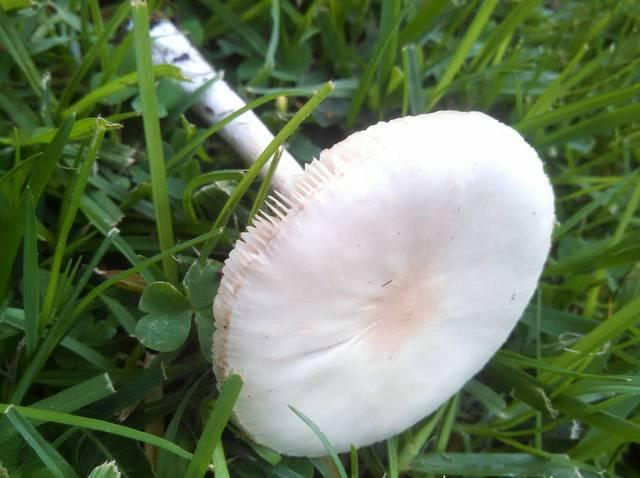Non-edible Mushroom: (208, 107, 556, 458)
